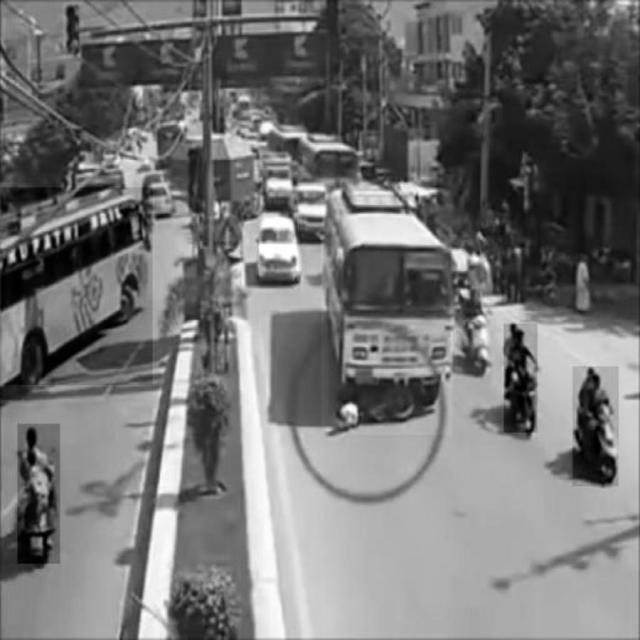accident: (322, 188, 453, 436)
vehicle: (2, 188, 153, 385), (18, 424, 60, 564), (573, 367, 619, 487), (504, 325, 538, 433), (260, 213, 300, 281), (461, 282, 489, 375)
